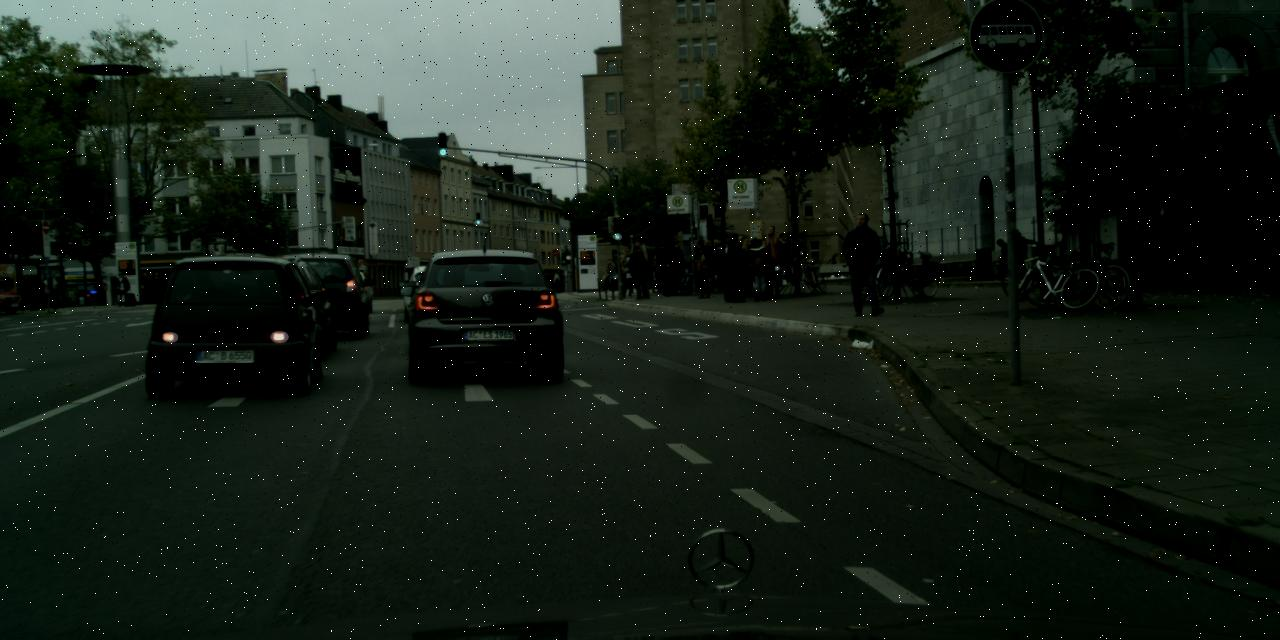ped: (843, 212, 885, 314), (758, 226, 786, 296), (721, 233, 749, 301), (744, 237, 770, 300), (630, 239, 654, 297), (690, 240, 713, 298), (664, 240, 686, 294), (772, 233, 794, 285), (628, 244, 648, 298), (697, 238, 717, 287), (731, 235, 751, 283), (738, 238, 756, 280), (616, 254, 633, 298), (639, 249, 656, 292), (652, 253, 667, 290), (47, 272, 61, 307), (40, 274, 52, 309), (115, 272, 128, 304), (829, 253, 841, 286), (604, 258, 616, 290), (552, 270, 560, 292), (79, 292, 85, 308)
